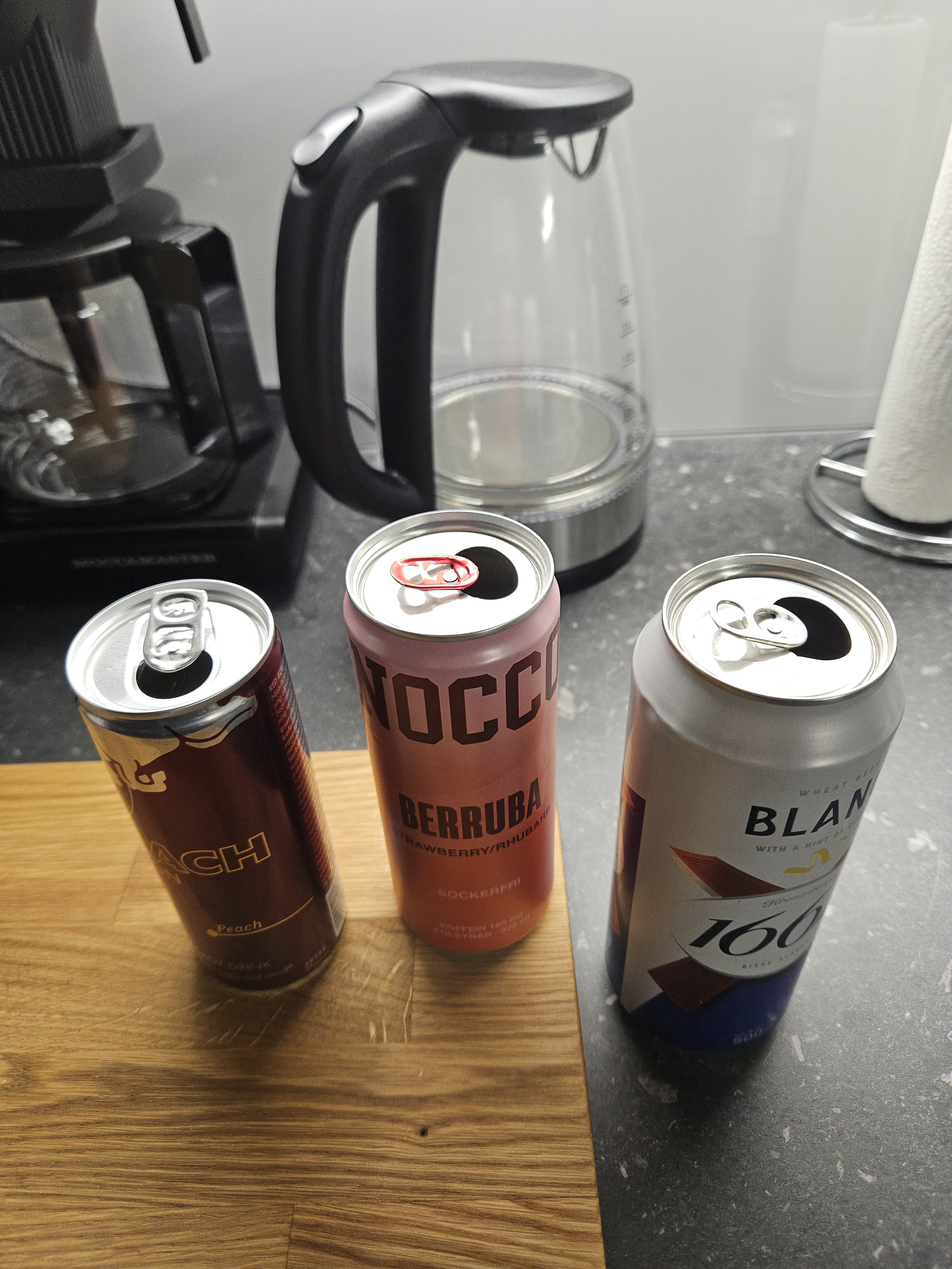Pantburk: (606, 537, 907, 1062), (64, 578, 346, 999), (343, 505, 567, 954)
